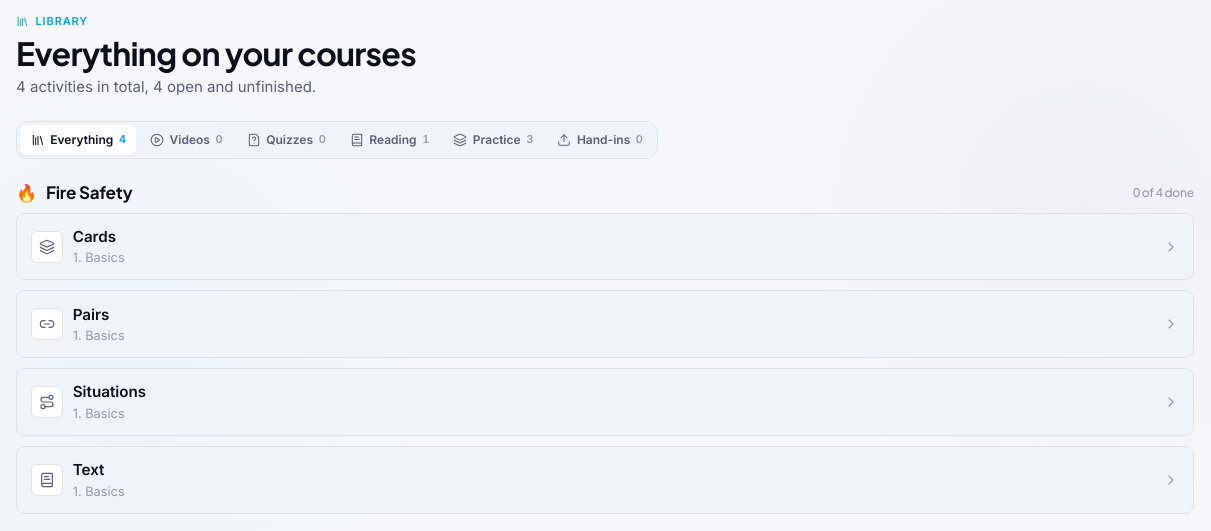
Test: filtering › groups the three practice types together
Click the button "Practice 3": coordinates (493, 140) [443, 125, 544, 155]
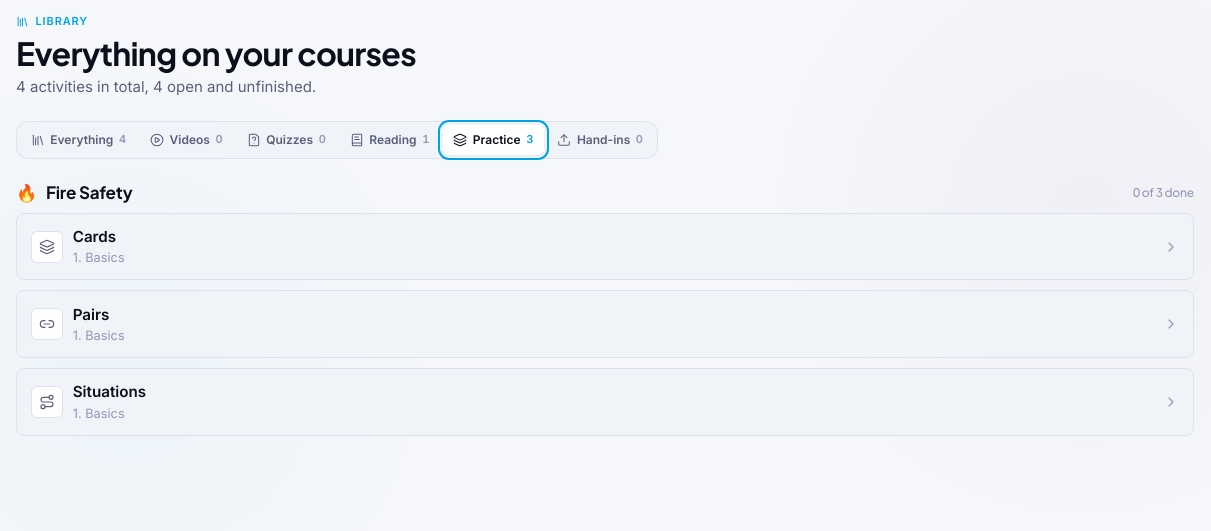
Expected: the text "Cards" is shown, [73, 227, 116, 246]
Expected: the link "Text" is gone
